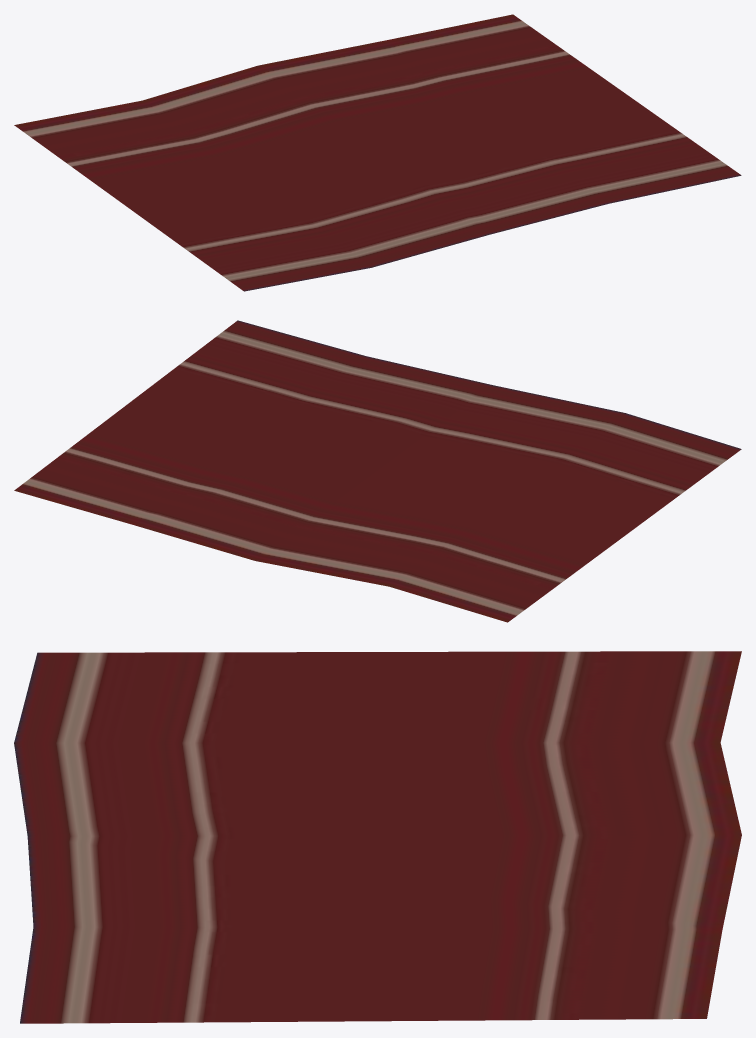
File: SM_carpet_square.glb
3 renders of one model, top to bottom at view 1: azimuth 30°, elevation 25°; view 2: azimuth 150°, elevation 25°; view 3: azimuth 270°, elevation 25°, orthographic. The views are drawn at different scales.
Parts seen in each view (by area): view 1: SM_carpet_square; view 2: SM_carpet_square; view 3: SM_carpet_square.
Part boxes in pixels (x1,y1,x2,y2): SM_carpet_square: (14, 14, 741, 291); SM_carpet_square: (14, 320, 741, 622); SM_carpet_square: (14, 651, 741, 1023).
Size of the model in its own units: 5.49 by 7.39e-07 by 4.54.
Materials: 1 (1 with a texture image).
